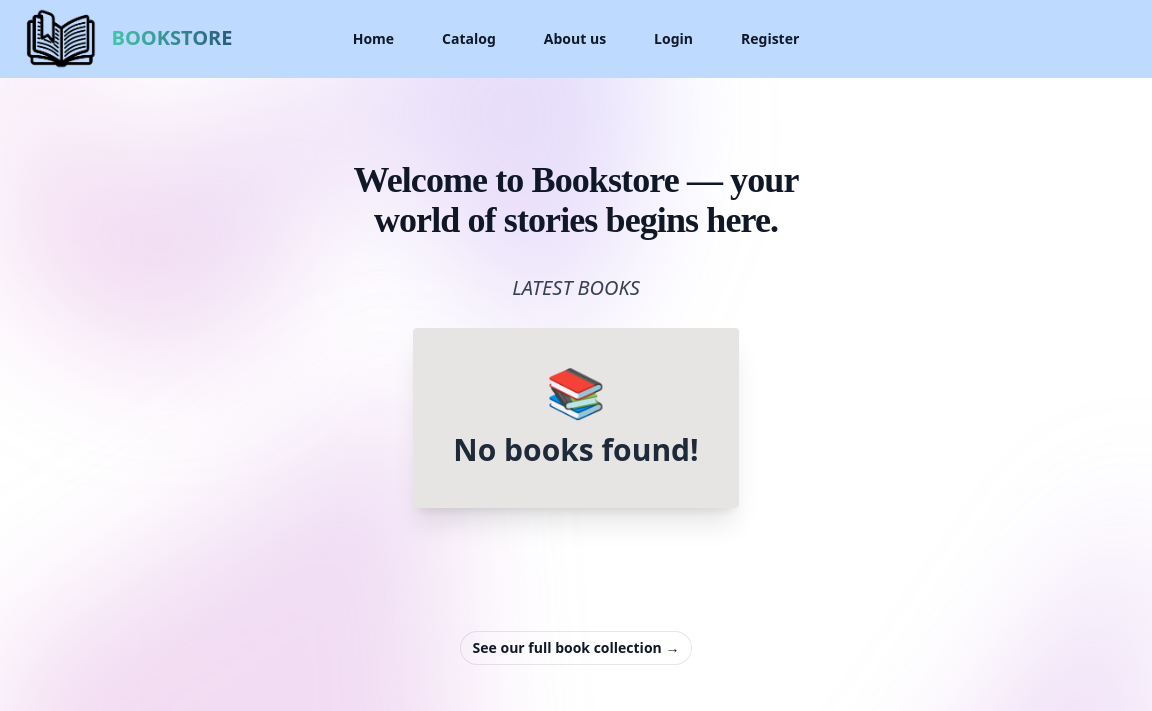
Scenario: App › Load navigation pages correctly › Register page
Click the link "Register".
click(770, 39)  # box [741,27,799,51]
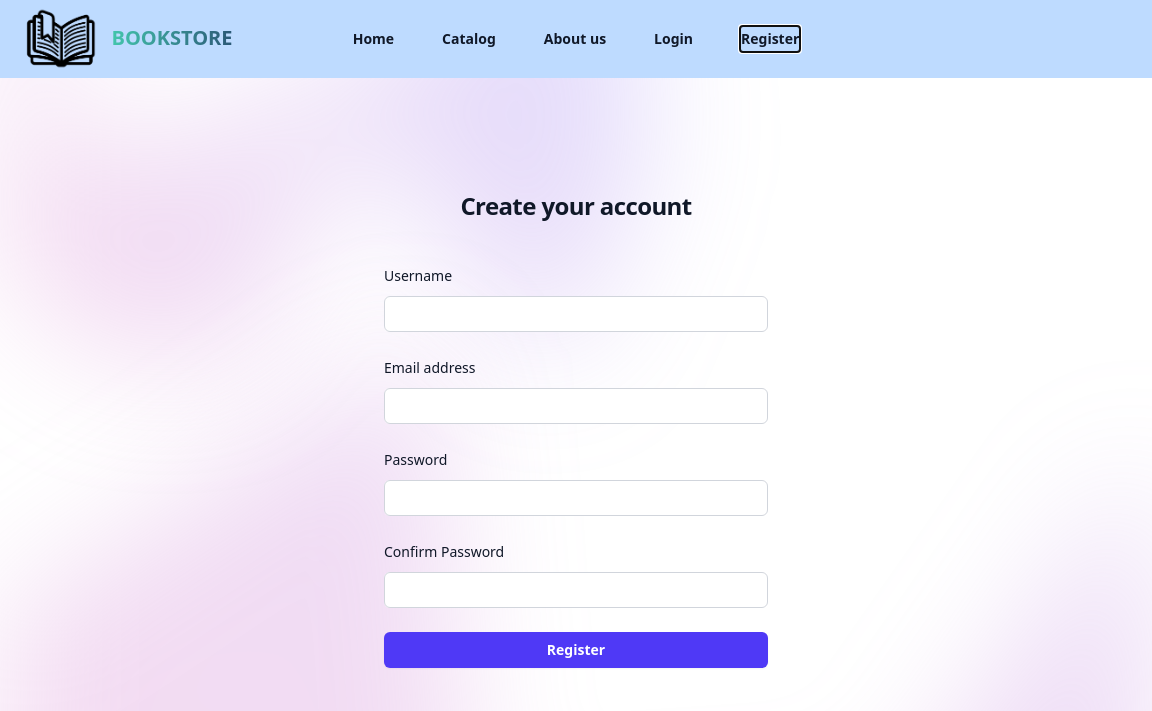
Result: the heading "Create your account" is shown at [460,189,692,222]
Result: the field labelled "Username" is shown at [384,296,768,332]
Result: the field labelled "Email address" is shown at [384,388,768,424]
